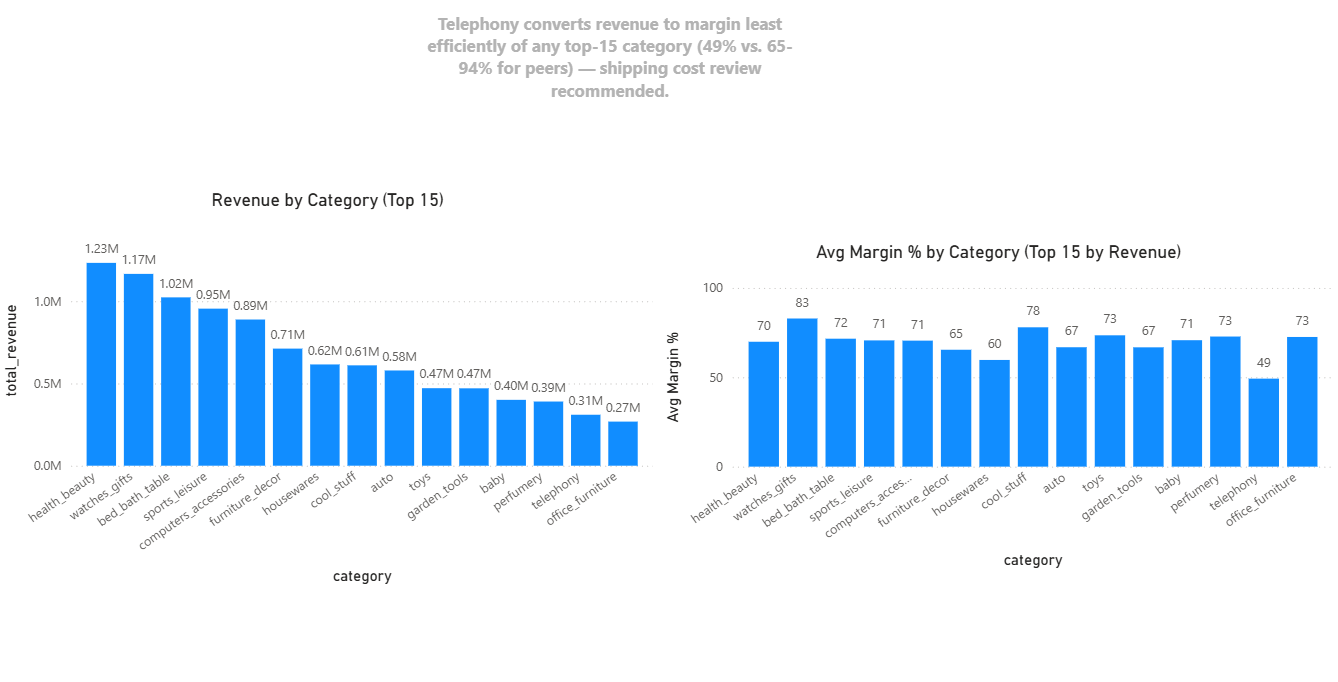

The page's visual inventory and layout, read from the dashboard file:
{"tool":"powerbi","page":{"name":"Page 1","canvas":[1280,720],"ordinal":0},"visuals":[{"type":"clusteredColumnChart","title":"Revenue by Category (Top 15)","fields":{"Category":["public category_profitability.category"],"Y":["Sum(public category_profitability.total_revenue)"]},"box":[0,211.7,631.1,382.2],"z":0},{"type":"lineClusteredColumnComboChart","title":"Avg Margin % by Category (Top 15 by Revenue)","fields":{"Category":["public category_profitability.category"],"Y":["Sum(public category_profitability.avg_margin_pct)"]},"box":[631.7,261.7,649,317],"z":1000},{"type":"textbox","box":[395,36.7,380,133.3],"z":2000}]}

Visuals, with their boxes on the page's 1280x720 design canvas (x1, y1, x2, y2). These are canvas units, not pixel positions in the 1338x682 screenshot, which may show the page scaled, cropped or inside an application window:
"Revenue by Category (Top 15)" clusteredColumnChart: x1=0, y1=212, x2=631, y2=594
"Avg Margin % by Category (Top 15 by Revenue)" lineClusteredColumnComboChart: x1=632, y1=262, x2=1281, y2=579
textbox: x1=395, y1=37, x2=775, y2=170
